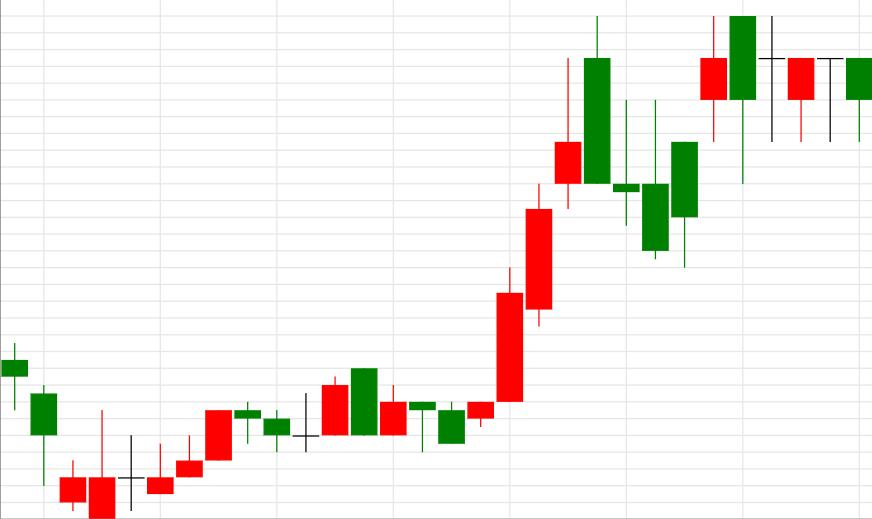shooting_star_fall: (438, 58, 582, 444)
